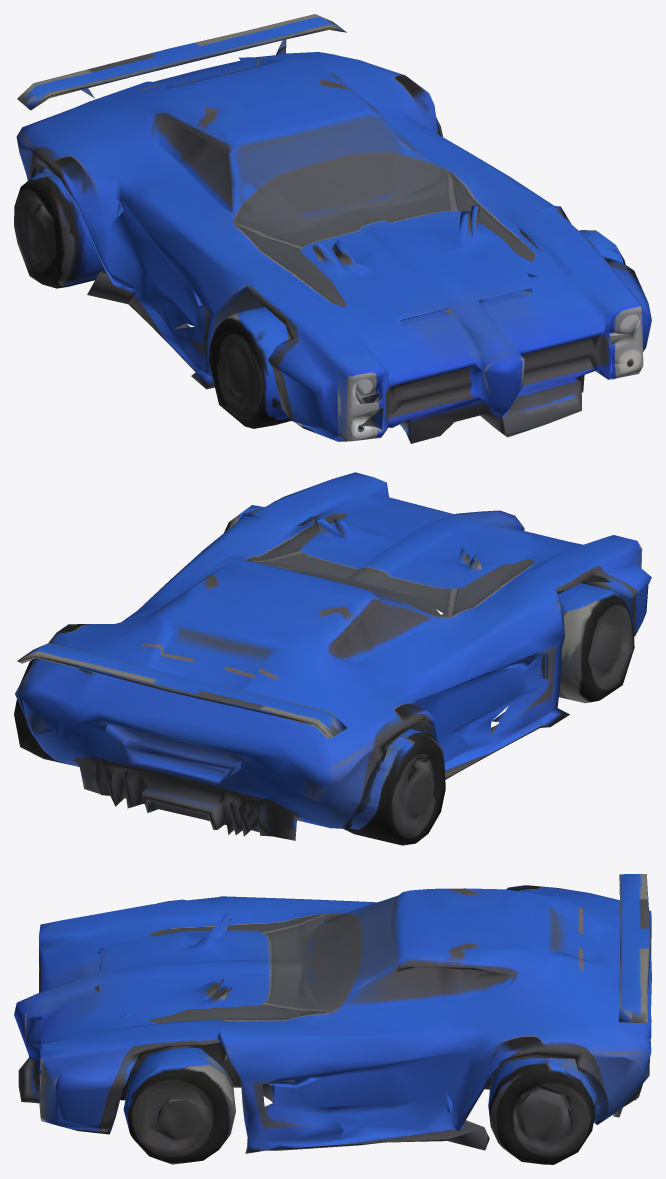
File: dominus.glb
3 views of the same model, one above another, from view 1: azimuth 30°, elevation 25°; view 2: azimuth 150°, elevation 25°; view 3: azimuth 270°, elevation 25° (orthographic). The views are drawn at different scales.
Parts seen in each view (by area): view 1: tripo_node_1baff49e-5dc1-48ea-9aaa-1b2d8787bf3d; view 2: tripo_node_1baff49e-5dc1-48ea-9aaa-1b2d8787bf3d; view 3: tripo_node_1baff49e-5dc1-48ea-9aaa-1b2d8787bf3d.
Part boxes in pixels (x1,y1,x2,y2): tripo_node_1baff49e-5dc1-48ea-9aaa-1b2d8787bf3d: (14, 14, 651, 443); tripo_node_1baff49e-5dc1-48ea-9aaa-1b2d8787bf3d: (14, 472, 651, 845); tripo_node_1baff49e-5dc1-48ea-9aaa-1b2d8787bf3d: (14, 874, 651, 1164).
Bounding box in the file's own units: 0.663 × 0.2824 × 1.
Materials: 1 (1 with a texture image).
